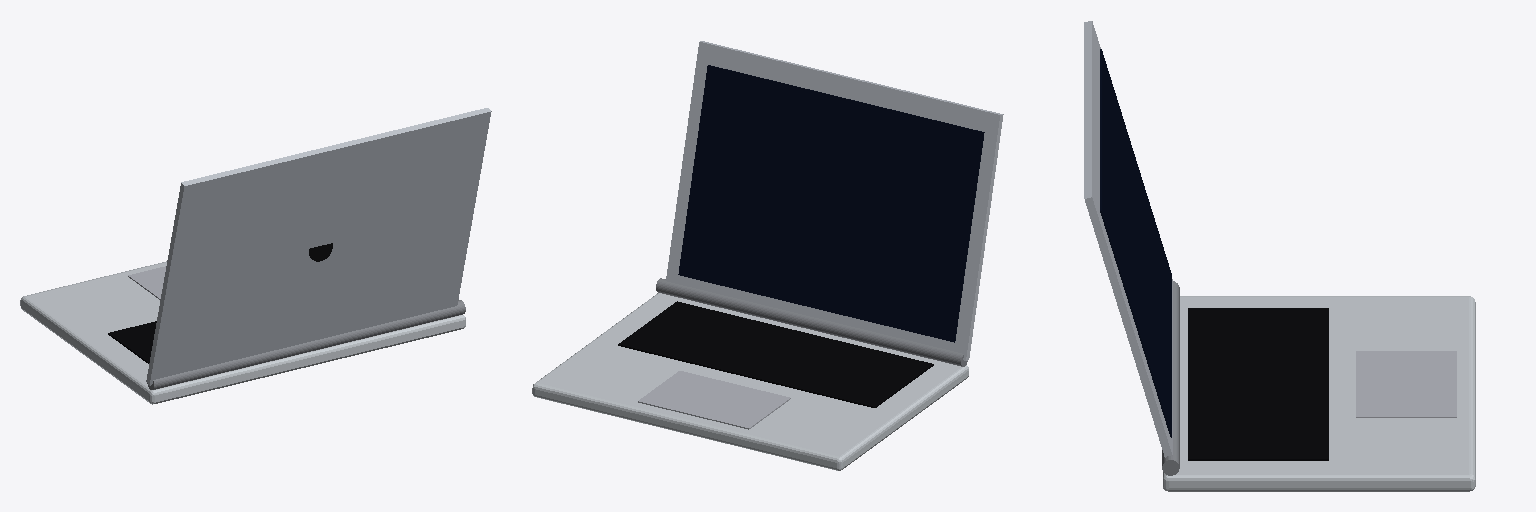
The robot description file, URDF, robot "laptop_lidar":
<?xml version='1.0' encoding='utf-8'?>
<robot name="laptop_lidar">
  <link name="base">
    <visual name="design_base_0">
      <origin xyz="0.00000 0.00000 0.00000" rpy="0.00000 0.00000 0.00000" />
      <geometry>
        <mesh filename="meshes/design_base_0.stl" />
      </geometry>
      <material name="design_base_0_color">
        <color rgba="0.78000 0.80000 0.82000 1" />
      </material>
    </visual>
    <visual name="design_base_1">
      <origin xyz="-0.02250 0.00000 0.00000" rpy="-0.00000 1.57080 0.00000" />
      <geometry>
        <cylinder radius="0.00650" length="0.31500" />
      </geometry>
      <material name="design_base_1_color">
        <color rgba="0.55000 0.56000 0.58000 1" />
      </material>
    </visual>
    <visual name="design_base_2">
      <origin xyz="-0.02280 0.06500 -0.00550" rpy="0.00000 0.00000 0.00000" />
      <geometry>
        <box size="0.26500 0.10500 0.00150" />
      </geometry>
      <material name="design_base_2_color">
        <color rgba="0.07000 0.07000 0.08000 1" />
      </material>
    </visual>
    <visual name="design_base_3">
      <origin xyz="-0.02280 0.17500 -0.00560" rpy="0.00000 0.00000 0.00000" />
      <geometry>
        <box size="0.11500 0.07500 0.00120" />
      </geometry>
      <material name="design_base_3_color">
        <color rgba="0.70000 0.71000 0.74000 1" />
      </material>
    </visual>
    <inertial>
      <origin xyz="-0.0232126 0.111179 -0.0129876" rpy="0 -1.5708 3.14159" />
      <mass value="0.9" />
      <inertia ixx="0.0107799" ixy="0" ixz="0" iyy="0.00733006" iyz="0" izz="0.00347765" />
    </inertial>
    <collision>
      <geometry>
        <mesh filename="meshes/base.stl" />
      </geometry>
    </collision>
  </link>
  <link name="lid">
    <visual name="design_lid_0">
      <origin xyz="-0.02760 -0.03065 0.10875" rpy="0.00000 -1.29608 -1.57080" />
      <geometry>
        <box size="0.22597 0.31050 0.00600" />
      </geometry>
      <material name="design_lid_0_color">
        <color rgba="0.76000 0.78000 0.81000 1" />
      </material>
    </visual>
    <visual name="design_lid_1">
      <origin xyz="-0.02760 -0.02575 0.10800" rpy="0.00000 -1.29569 -1.57080" />
      <geometry>
        <box size="0.19327 0.28500 0.00120" />
      </geometry>
      <material name="design_lid_1_color">
        <color rgba="0.06000 0.09000 0.16000 1" />
      </material>
    </visual>
    <visual name="design_lid_2">
      <origin xyz="-0.02760 -0.03360 0.10800" rpy="1.57080 1.57080 0.00000" />
      <geometry>
        <cylinder radius="0.01200" length="0.00160" />
      </geometry>
      <material name="design_lid_2_color">
        <color rgba="0.08000 0.08000 0.09000 1" />
      </material>
    </visual>
    <inertial>
      <origin xyz="-0.0276933 -0.030744 0.108682" rpy="1.56398 -0.265453 1.5708" />
      <mass value="0.5" />
      <inertia ixx="0.00612324" ixy="0" ixz="0" iyy="0.00400437" iyz="0" izz="0.0021201" />
    </inertial>
    <collision>
      <geometry>
        <mesh filename="meshes/lid.stl" />
      </geometry>
    </collision>
  </link>
  <joint name="lid_joint" type="revolute">
    <parent link="base" />
    <child link="lid" />
    <origin xyz="0.00000 0.00000 0.00000" rpy="0 0 0" />
    <axis xyz="1.00000 0.00000 0.00000" />
    <limit lower="-1.8613" upper="0.1638" effort="10" velocity="2" />
    <dynamics damping="0.02" friction="0.283534" />
  </joint>
</robot>

--- Render facts (derived) ---
3 views of the same robot in one strip: view 1: azimuth 30°, elevation 25°; view 2: azimuth 150°, elevation 25°; view 3: azimuth 270°, elevation 25° (orthographic).
Model laptop_lidar with 2 links and 1 joints (1 revolute), rooted at base, posed all joints at 0.
Visible links, largest first — view 1: lid, base; view 2: lid, base; view 3: base, lid.
Link boxes in pixels (bbox=[...]): lid: bbox=[146, 108, 491, 385]; base: bbox=[20, 261, 465, 404]; lid: bbox=[666, 41, 1003, 360]; base: bbox=[532, 278, 968, 470]; base: bbox=[1162, 281, 1475, 491]; lid: bbox=[1084, 21, 1172, 457].
Size in the robot's own frame: 0.32 by 0.2904 by 0.238 metres.
1 mesh visuals loaded from 1 distinct referenced files (1 binary STL).
